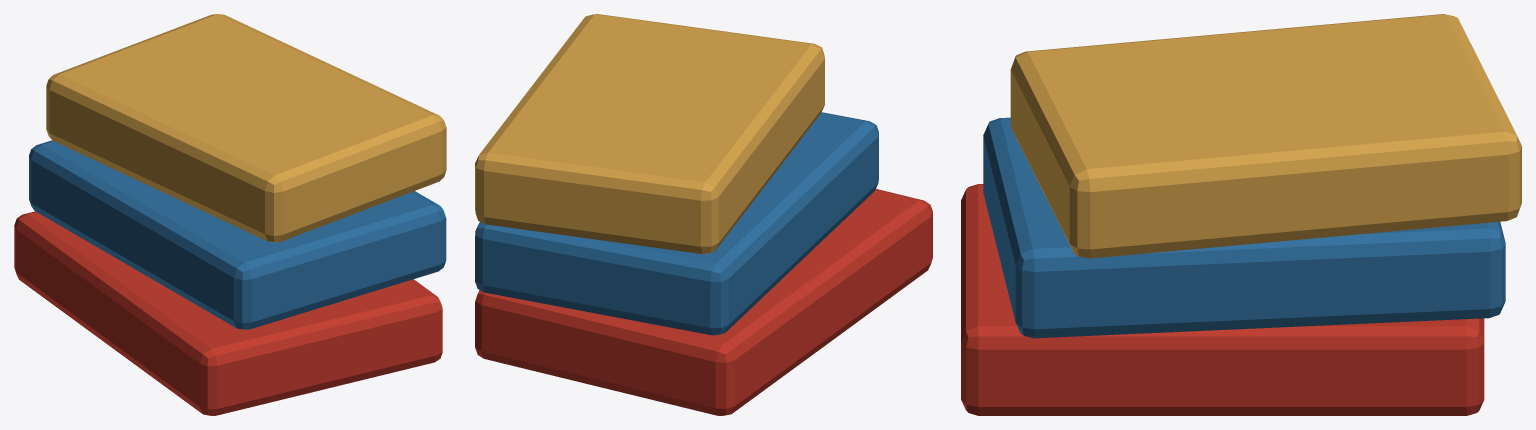
Rendered from book-stack.glb.
The picture shows the model from 3 angles, left to right: view 1: azimuth 30°, elevation 25°; view 2: azimuth 150°, elevation 25°; view 3: azimuth 270°, elevation 25°; orthographic projection. The views are drawn at different scales.
Parts seen in each view (by area): view 1: book0; view 2: book0; view 3: book0.
Boxes of the visible parts, <box> form: book0: <box>14,14,446,415</box>; book0: <box>475,14,932,415</box>; book0: <box>961,14,1521,415</box>.
Bounding box in the file's own units: 0.2008 × 0.139 × 0.2572.
